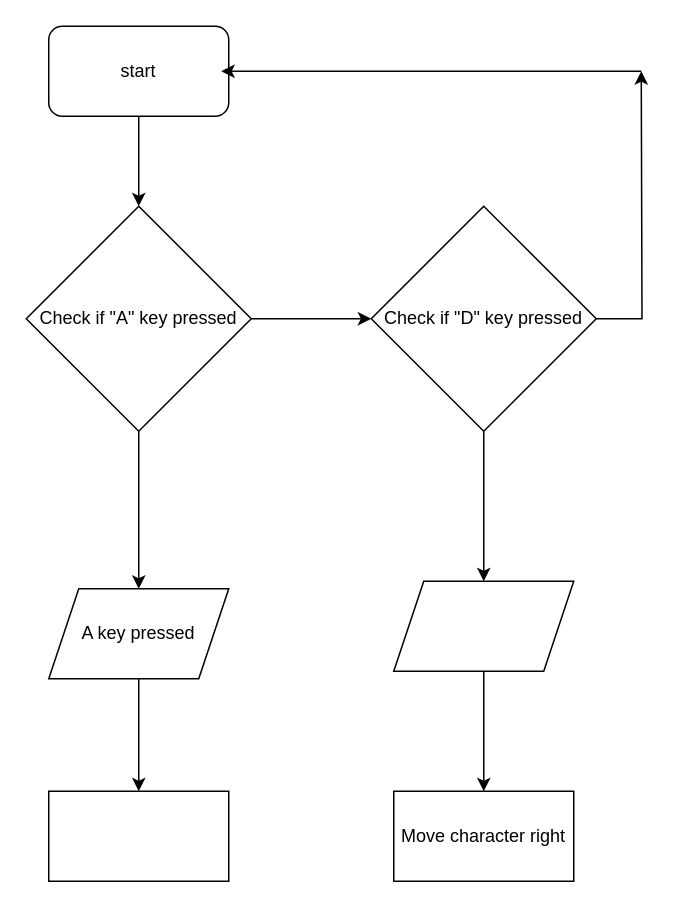
The diagram is 681 pixels wide and 908 high, and some of its shapes have lost their labels. The shapes that lost their labels are listed below. From the top down, each one's centre as x and y in pixels, then its label:
At [483,625]: "D key pressed".
At [138,835]: "Move character left".
